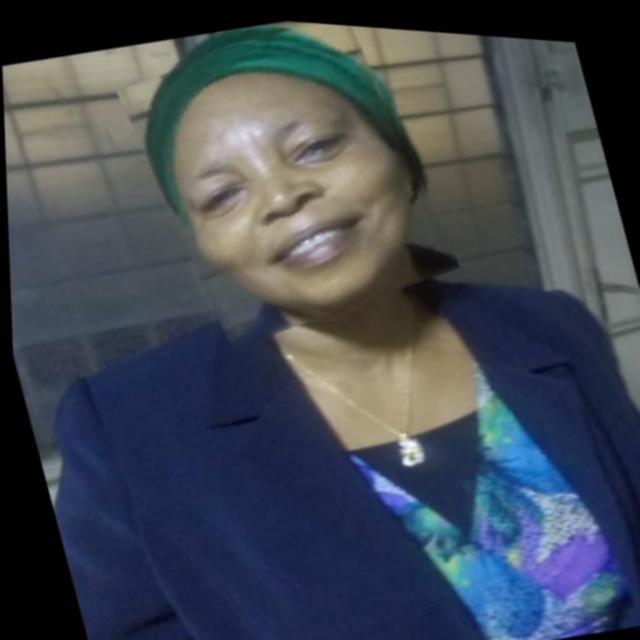happy: (116, 7, 459, 356)
